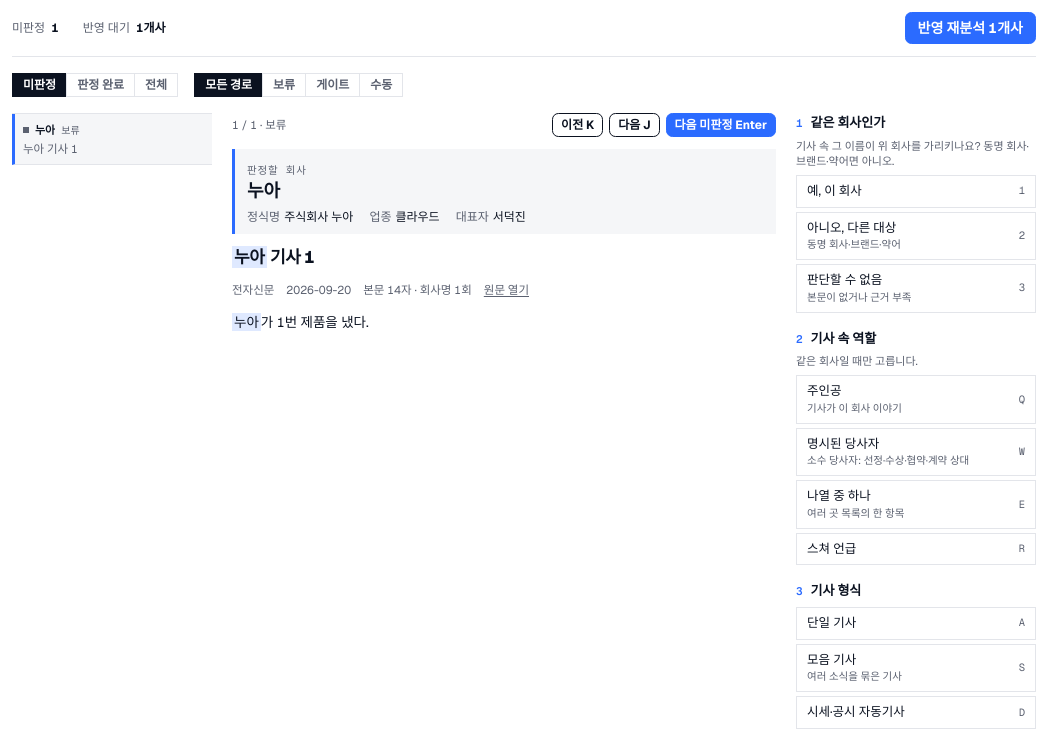
Scenario: JudgmentWorkbench › shows the server's reason when the re-analysis is refused
This screenshot has width=1048, height=733.
Click the button "반영 재분석 1개사": (970, 28) [904,12,1036,44]
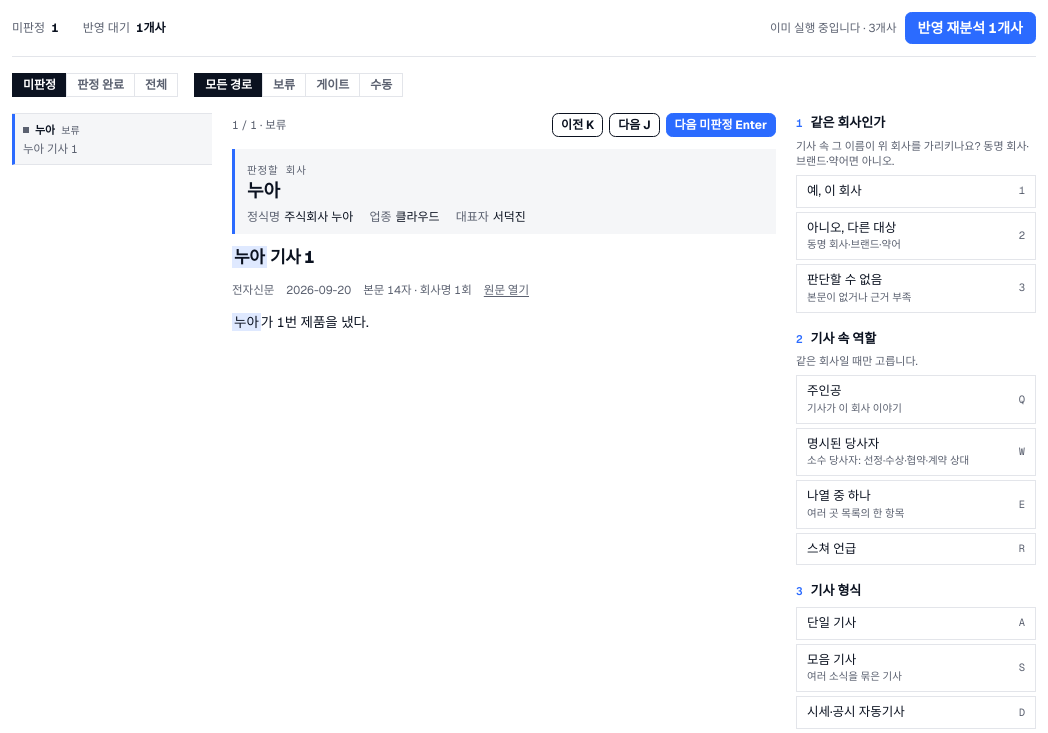
Now the text "이미 실행 중입니다 · 3개사" is shown, box [770,19,896,37]
